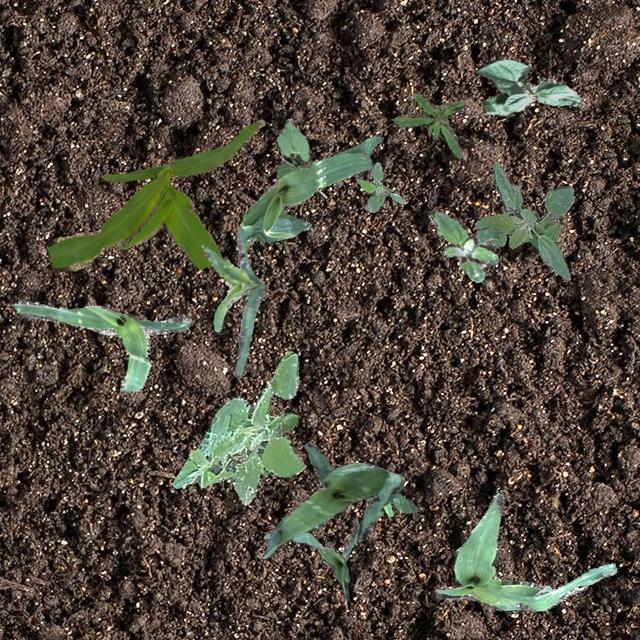crop: (46, 118, 264, 270), (434, 492, 616, 610), (261, 440, 404, 558), (13, 299, 189, 392), (238, 134, 379, 245), (202, 226, 266, 374), (262, 518, 358, 600), (476, 59, 582, 114), (276, 118, 310, 180)
weed: (170, 349, 304, 504), (473, 160, 572, 280), (430, 212, 506, 282), (392, 92, 464, 156), (354, 160, 404, 212), (364, 492, 416, 520)
